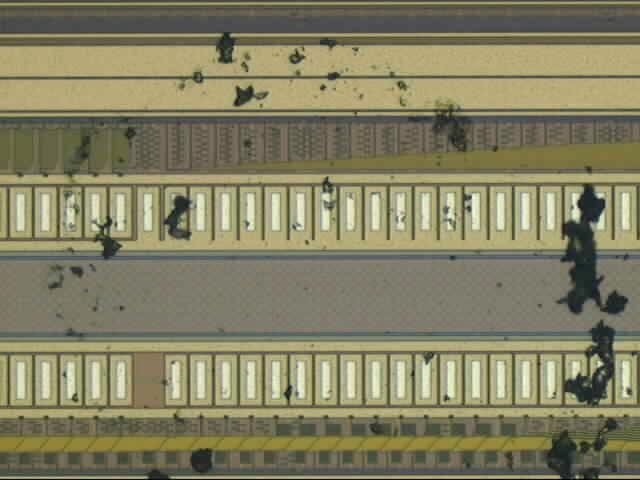PO CONTAMINATION: (17, 31, 640, 480)
